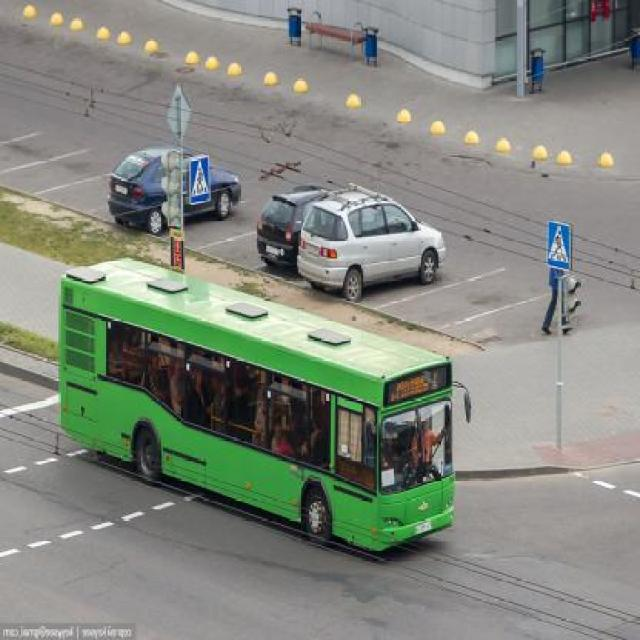bus: (56, 254, 472, 558)
car: (298, 188, 448, 300), (109, 149, 240, 236)
